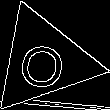O_N: (17, 32, 70, 90)
